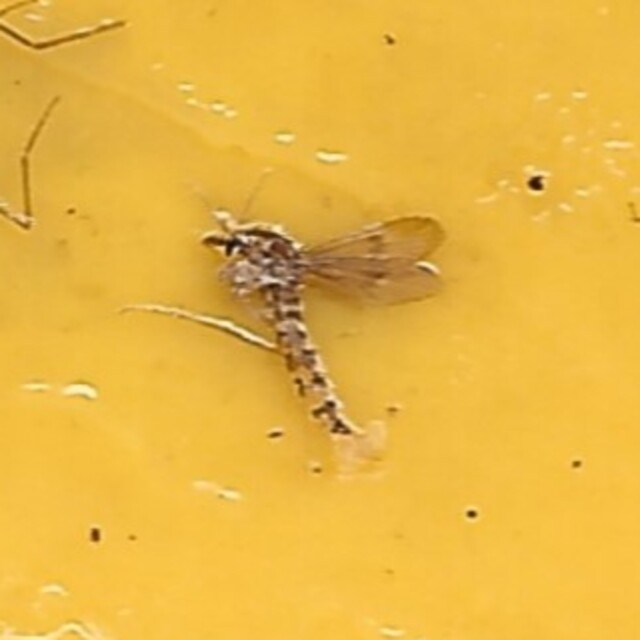Nematocera: (200, 192, 440, 448)
